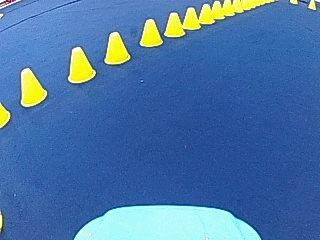cone: (18, 66, 47, 106), (67, 45, 96, 83), (102, 30, 131, 64), (138, 17, 163, 47), (164, 11, 184, 37), (182, 6, 200, 29), (198, 3, 213, 24), (210, 0, 223, 19), (0, 103, 10, 127), (221, 0, 233, 15), (232, 0, 242, 12)
